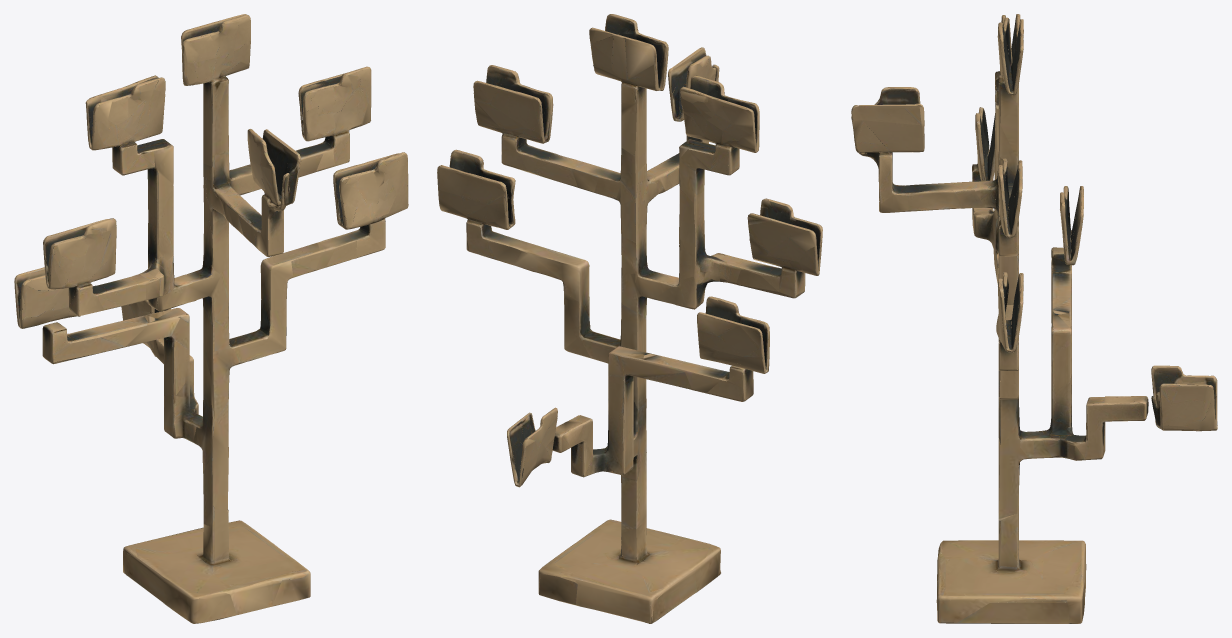
The model's file is arborescence.glb.
The picture shows the model from 3 angles, left to right: view 1: azimuth 30°, elevation 25°; view 2: azimuth 150°, elevation 25°; view 3: azimuth 270°, elevation 25°; orthographic projection. The views are drawn at different scales.
Visible parts, largest first — view 1: Mesh_0; view 2: Mesh_0; view 3: Mesh_0.
Boxes of the visible parts, x1,y1,x2,y2 form: Mesh_0: (14,14,408,623); Mesh_0: (437,14,822,623); Mesh_0: (851,14,1217,623).
Bounding box in the file's own units: 0.9591 × 1.4 × 0.8092.
1 material, 1 textured.
